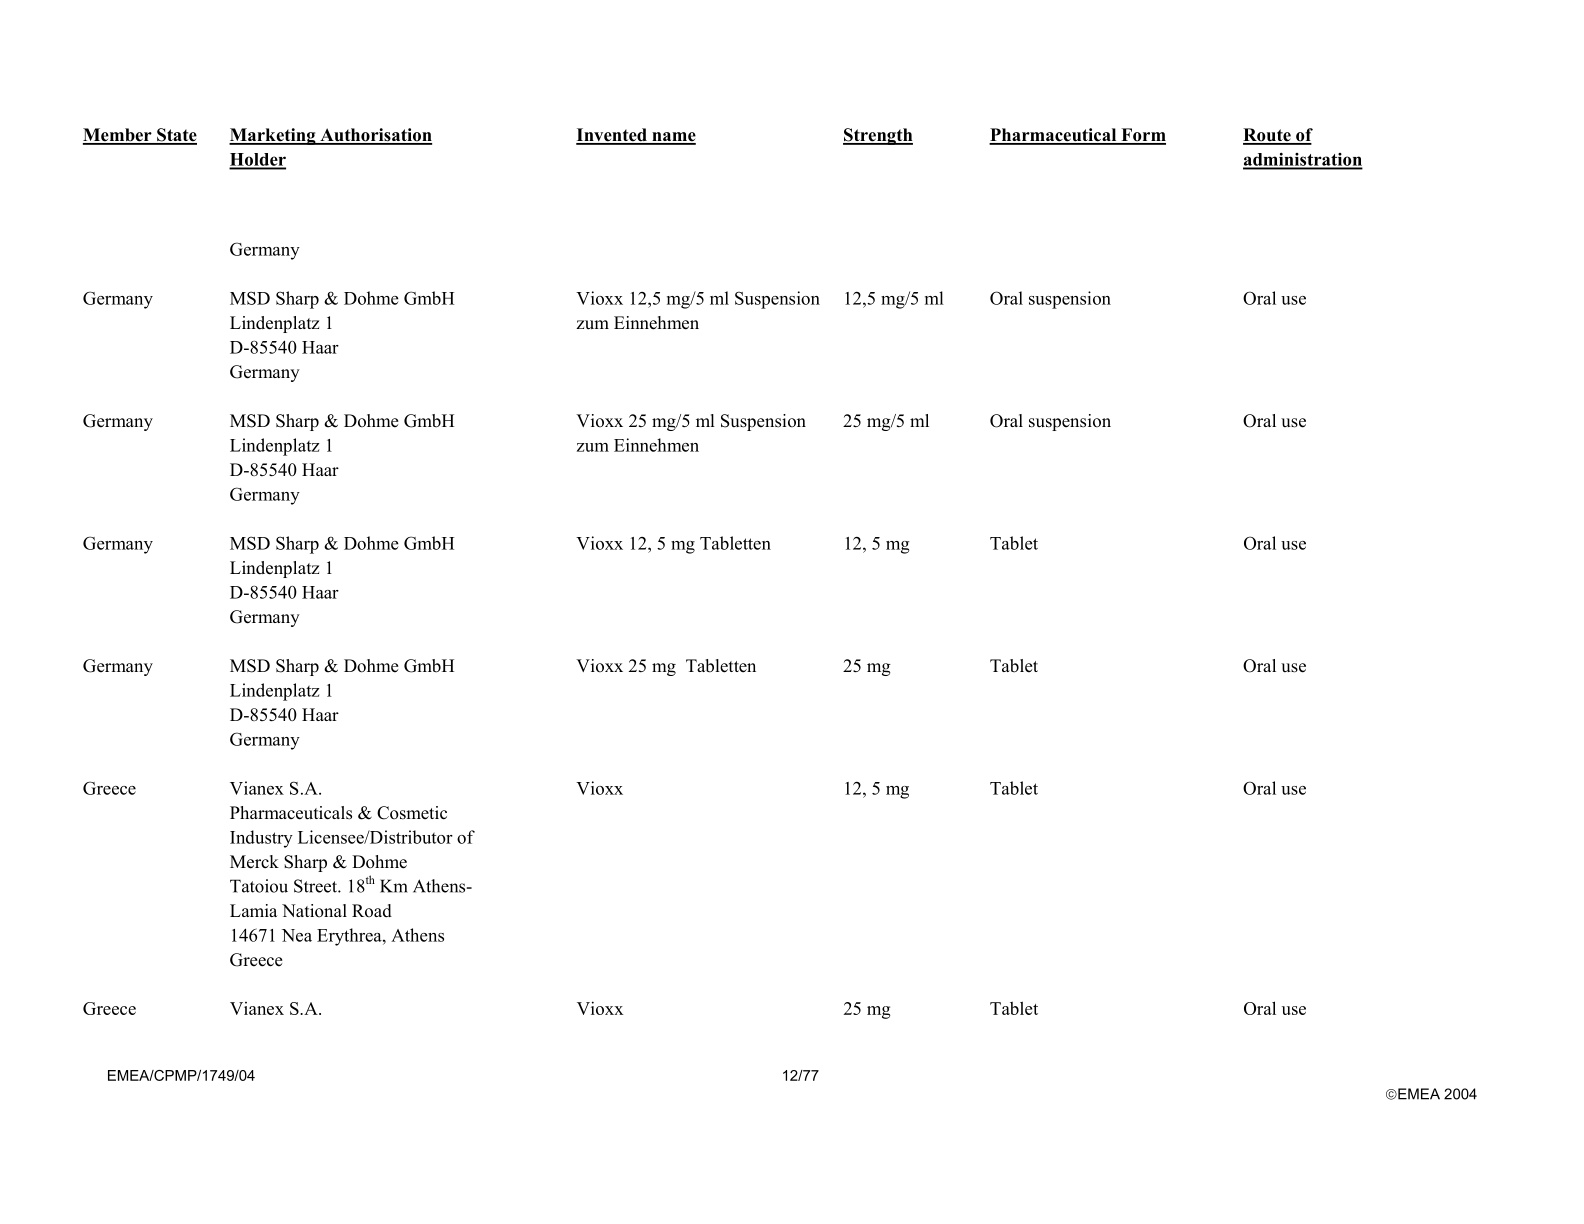nolines: (75, 121, 1369, 1022)
